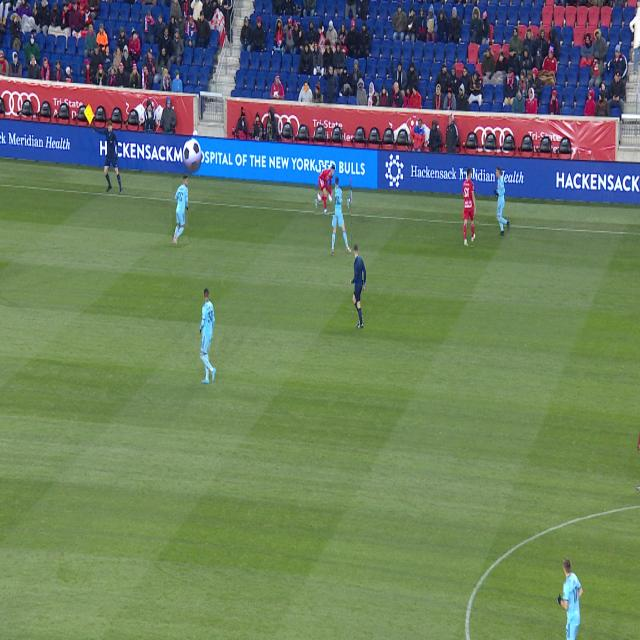football: (318, 194, 322, 201)
player: (557, 558, 583, 640), (200, 289, 216, 384), (332, 177, 351, 253), (494, 167, 510, 236), (173, 176, 188, 244), (463, 169, 476, 246), (316, 166, 335, 215), (637, 431, 640, 450), (636, 486, 640, 492)
referee: (350, 245, 366, 328)
